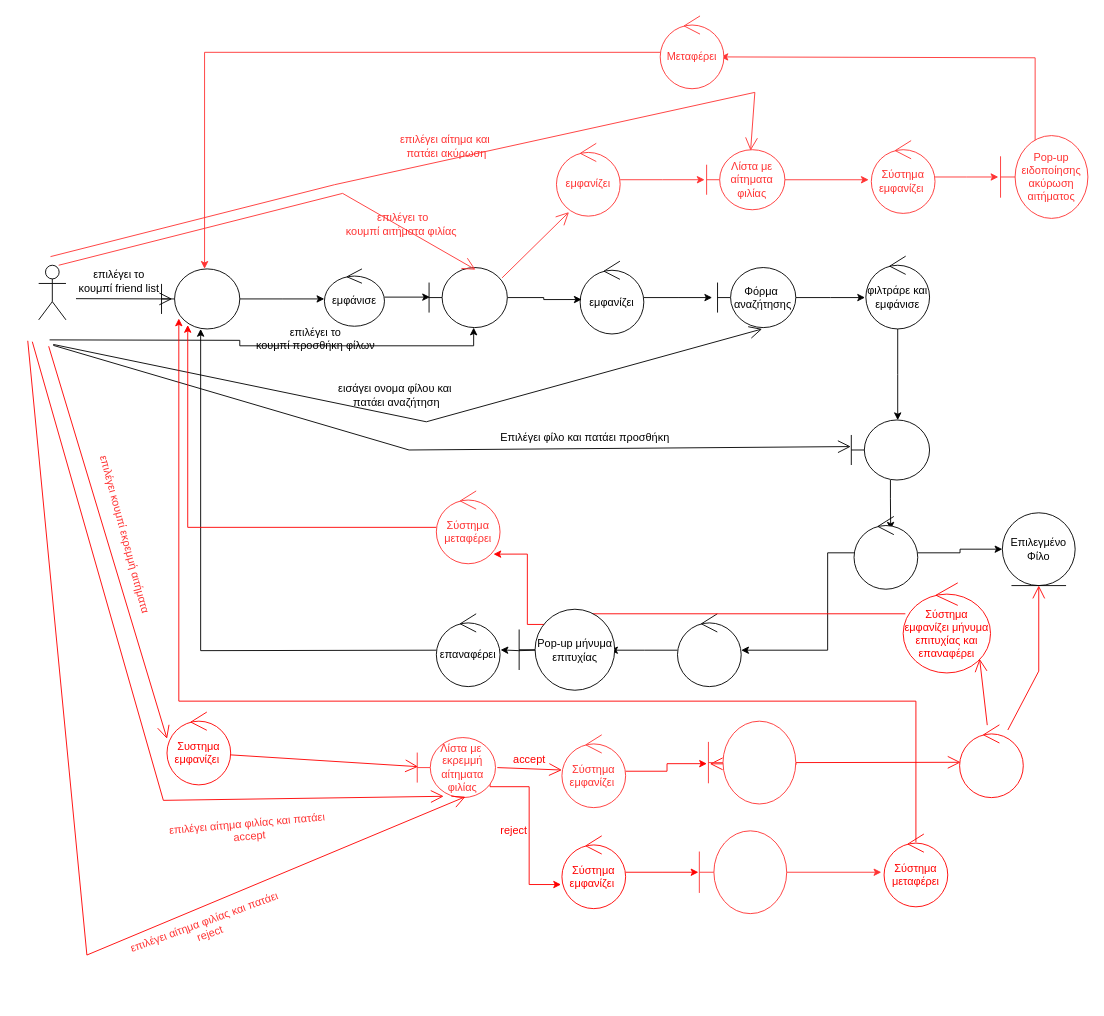
This 1104x1016 diagram has some shape labels left out. The shapes that lost their labels are listed below. From the top down, each one's box as (x1, y1, x2, y2) in pixels, then its label:
(38, 264, 66, 320): Χρήστης
(161, 268, 240, 329): Οθόνη Λίστας Φίλων
(428, 267, 507, 328): Σελίδα με κουμπία επιλογής
(850, 419, 930, 480): Παράθυρο με λίστα χρηστών
(853, 516, 918, 589): Το σύστημα στέλνει αίτημα φίλιας
(677, 613, 741, 687): Σύστημα μήνυμα επιτυχίας και επαναφορά
(708, 720, 796, 804): Pop-up ειδοποίησης επιτυχίας προσθήκης
(959, 724, 1023, 798): Σύστημα προσθέτει
(698, 830, 787, 914): Pop-up ειδοποίησης απόρριψης
